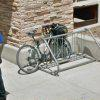Bicycle: (9, 14, 71, 84)
